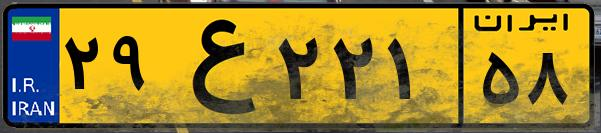1: (385, 28, 445, 110)
2: (270, 28, 330, 110), (330, 28, 385, 110), (57, 26, 110, 100)
5: (475, 38, 525, 113)
8: (525, 38, 570, 115)
9: (110, 28, 158, 98)
ع: (158, 12, 270, 120)
